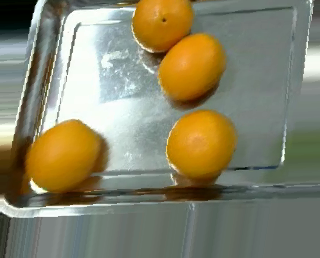Orange: (24, 118, 100, 192), (165, 109, 237, 179), (157, 31, 227, 102), (130, 1, 194, 52)
